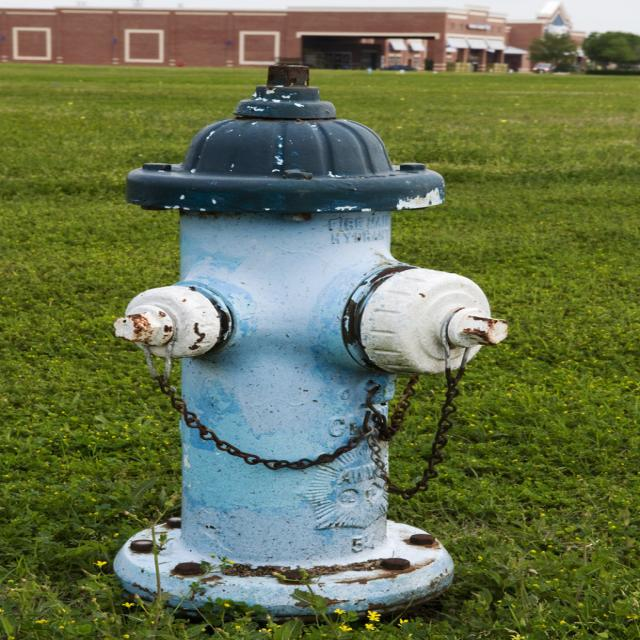fire_hydrant: (112, 65, 510, 619)
